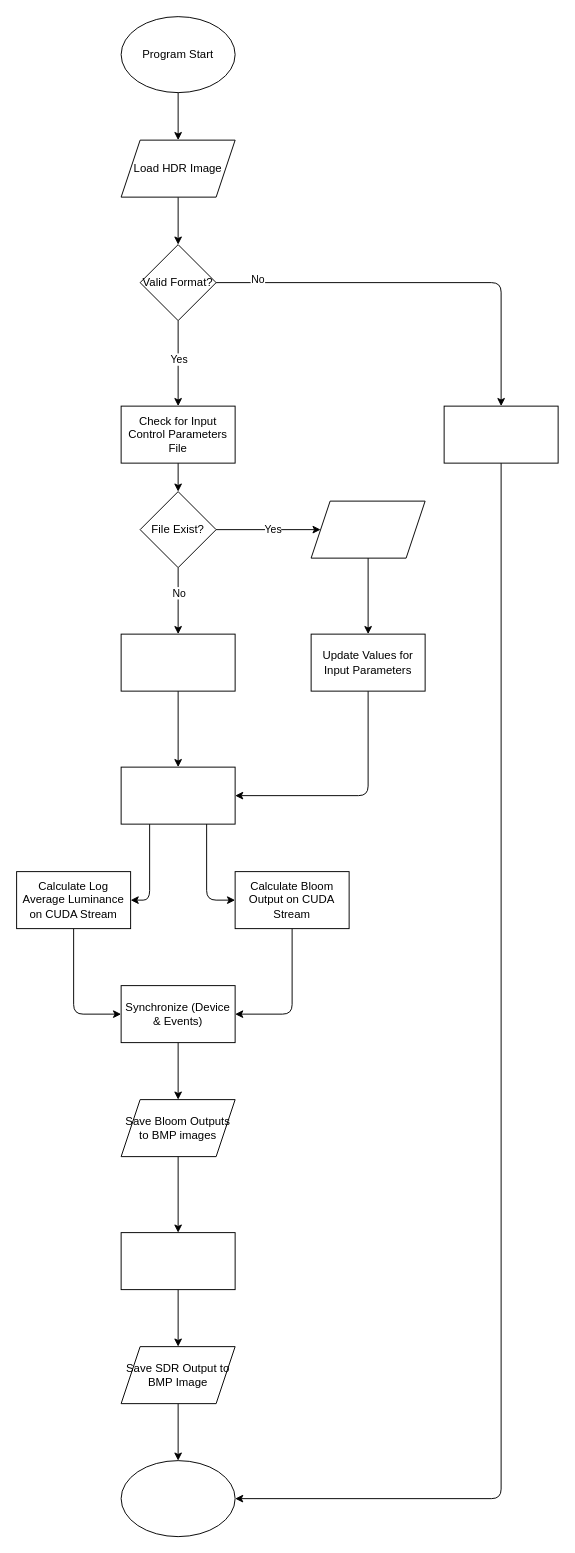
The diagram is 575 pixels wide and 1553 high, and some of its shapes have lost their labels. Each missing label, with the centre of its shape:
Generate SDR Output on CUDA Global Screen: (177,1261)
Inform User: (500,434)
Load Input Control Parameters: (367,529)
Program Exit: (177,1498)
Set Default Values for Input Parameters: (177,662)
Upload Parameters to CUDA Constants: (177,795)
